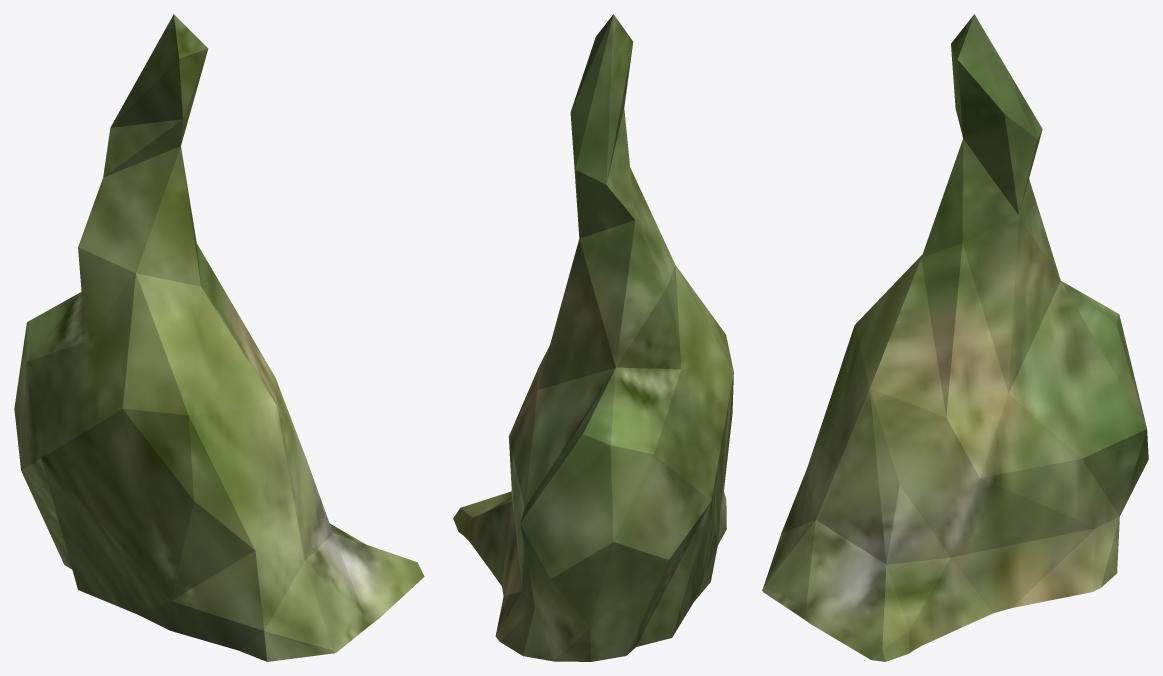
The picture shows the model from 3 angles, left to right: view 1: azimuth 30°, elevation 25°; view 2: azimuth 150°, elevation 25°; view 3: azimuth 270°, elevation 25°; orthographic projection. The views are drawn at different scales.
Bounding box in the file's own units: 0.5154 × 0.893 × 0.5658.
1 material, 1 textured.
